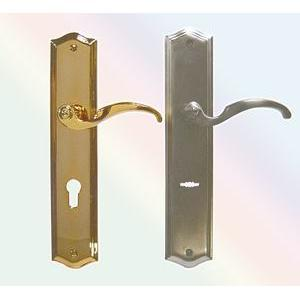doorhandle: (186, 71, 295, 138), (42, 81, 169, 132)
